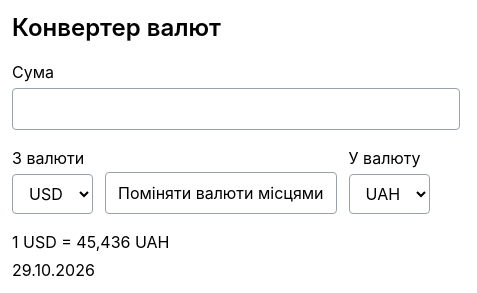
Test: Converter rate states › requests the new direction's published rate on swap, never an inverted copy
The width and height of the screenshot is (477, 293).
Expected: the text "1 USD = 45,436 UAH" is shown, x1=12 y1=232 x2=170 y2=252
Click the button "Поміняти валюти місцями".
click(221, 193)  # box x1=105 y1=172 x2=336 y2=214
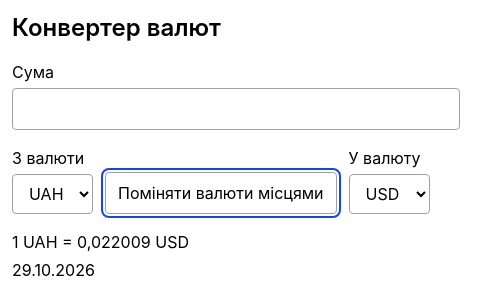
Expected: the text "1 USD = 45,436 UAH" is gone
Expected: the text "1 UAH = 0,022009 USD" is shown, x1=12 y1=232 x2=189 y2=252
